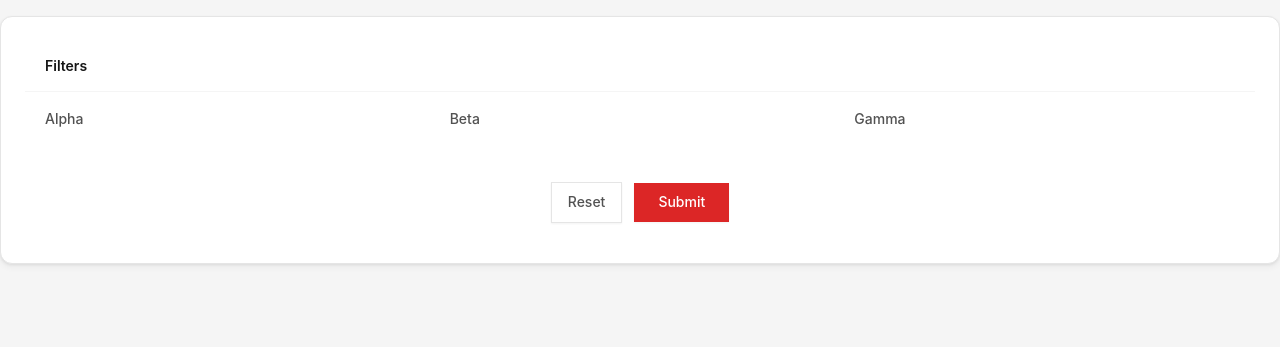
it: V1FilterSection › shows validation error with 3+ fields grouped
This screenshot has width=1280, height=347.
Click the button "Submit" at {"x": 682, "y": 203}, box [634,183,729,222]
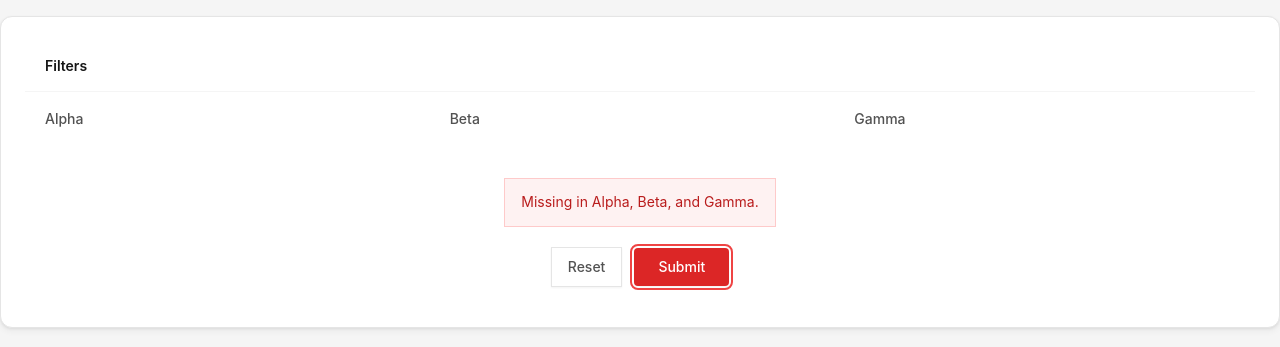
Result: the text "Missing in Alpha, Beta, and Gamma." is shown at [504,178,776,227]
